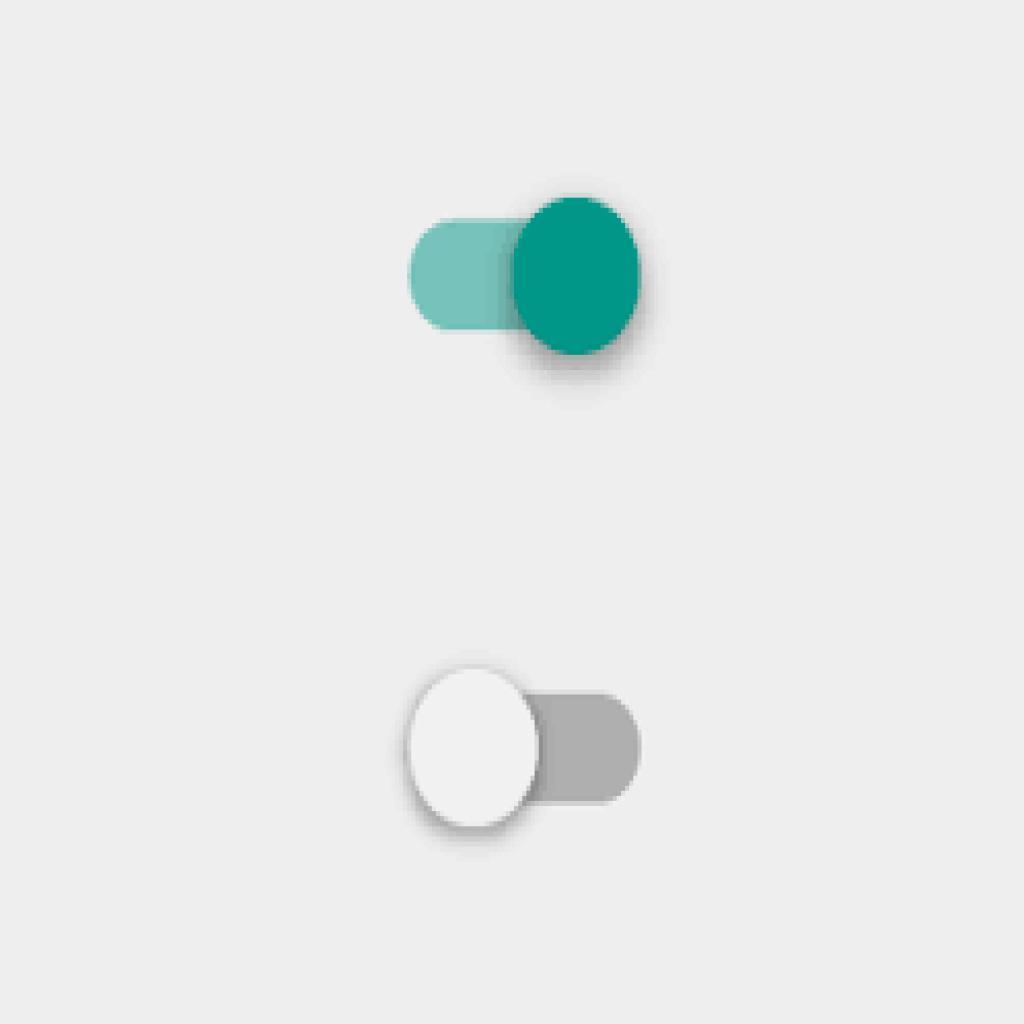switch: (405, 667, 643, 832), (410, 196, 644, 357)
